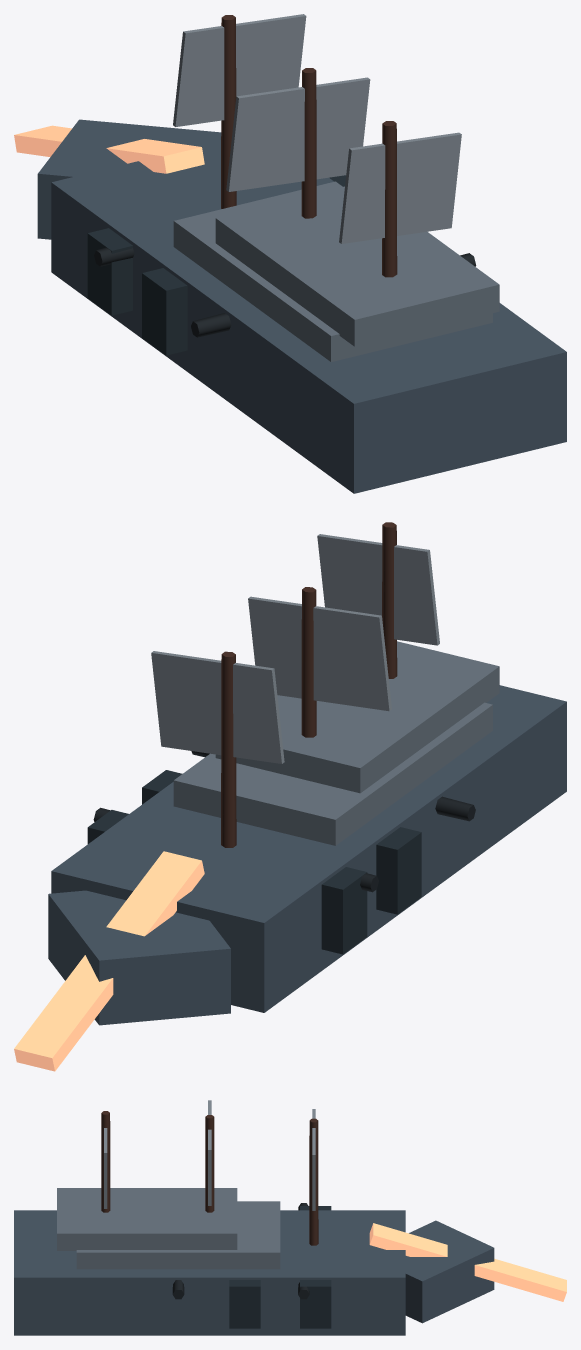
Rendered from ship_main_56_lod1.glb.
3 renders of one model, top to bottom at view 1: azimuth 30°, elevation 25°; view 2: azimuth 150°, elevation 25°; view 3: azimuth 270°, elevation 25°, orthographic. The views are drawn at different scales.
Visible parts, largest first — view 1: Hull, Deck_1, Sail_1, Sail_2, Sail_0, Deck_0, Bow, ArmorRib_-1_1, ProwIdentity, ArmorRib_-1_0, Mast_0, Mast_1 (+2 smaller); view 2: Hull, Deck_1, Bow, Deck_0, Sail_1, Sail_0, ProwIdentity, Sail_2, ArmorRib_-1_1, ArmorRib_-1_0, Mast_0, Mast_1 (+2 smaller); view 3: Hull, Deck_1, Deck_0, Bow, ProwIdentity, ArmorRib_1_1, ArmorRib_1_0, Mast_0, Mast_2, Mast_1, Sail_0, Sail_1 (+1 smaller).
Part boxes in pixels (x1,y1,x2,y2): Hull: (51, 141, 566, 493); Deck_1: (215, 186, 499, 346); Sail_1: (226, 77, 370, 191); Sail_2: (339, 132, 461, 243); Sail_0: (173, 14, 306, 126); Deck_0: (173, 181, 492, 361); Bow: (37, 119, 221, 239); ArmorRib_-1_1: (142, 268, 187, 355); ProwIdentity: (14, 125, 204, 173); ArmorRib_-1_0: (87, 228, 132, 315); Mast_0: (221, 15, 236, 208); Mast_1: (301, 68, 316, 218); Hull: (51, 685, 566, 1012); Deck_1: (215, 641, 499, 793); Bow: (48, 890, 230, 1025); Deck_0: (173, 702, 492, 845); Sail_1: (248, 596, 391, 711); Sail_0: (151, 651, 284, 763); ProwIdentity: (14, 851, 204, 1071); Sail_2: (317, 534, 439, 645); ArmorRib_-1_1: (376, 827, 421, 914); ArmorRib_-1_0: (321, 867, 367, 954); Mast_0: (221, 651, 236, 847); Mast_1: (301, 587, 316, 737); Hull: (14, 1210, 405, 1335); Deck_1: (57, 1188, 237, 1250); Deck_0: (76, 1201, 280, 1269); Bow: (405, 1220, 494, 1323); ProwIdentity: (369, 1223, 566, 1301); ArmorRib_1_1: (229, 1280, 260, 1328); ArmorRib_1_0: (300, 1280, 331, 1328); Mast_0: (309, 1118, 318, 1245); Mast_2: (101, 1111, 110, 1212); Mast_1: (205, 1115, 214, 1212); Sail_0: (312, 1109, 315, 1210); Sail_1: (208, 1100, 211, 1205).
Bounding box in the file's own units: 3.17 × 3.21 × 8.49.
